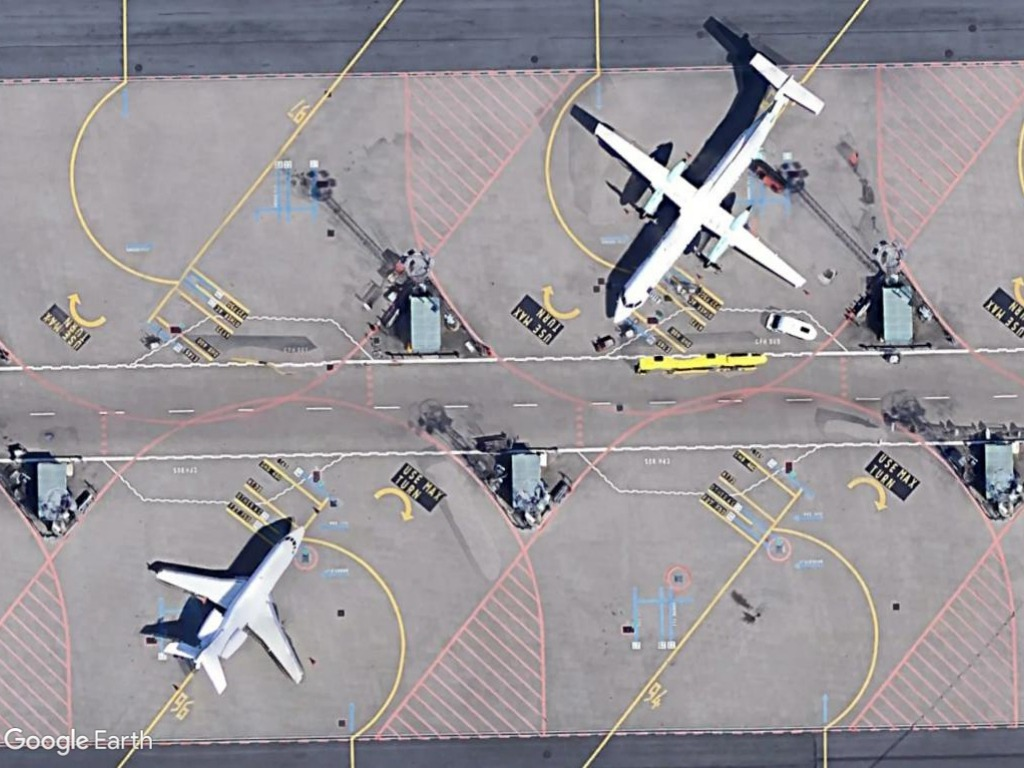chartered: (148, 514, 320, 701)
propeller: (585, 47, 835, 329)
